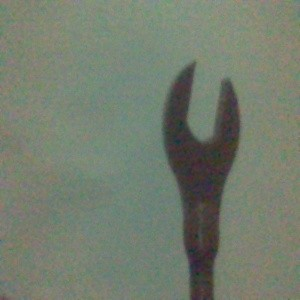spanner: (162, 59, 242, 300)
